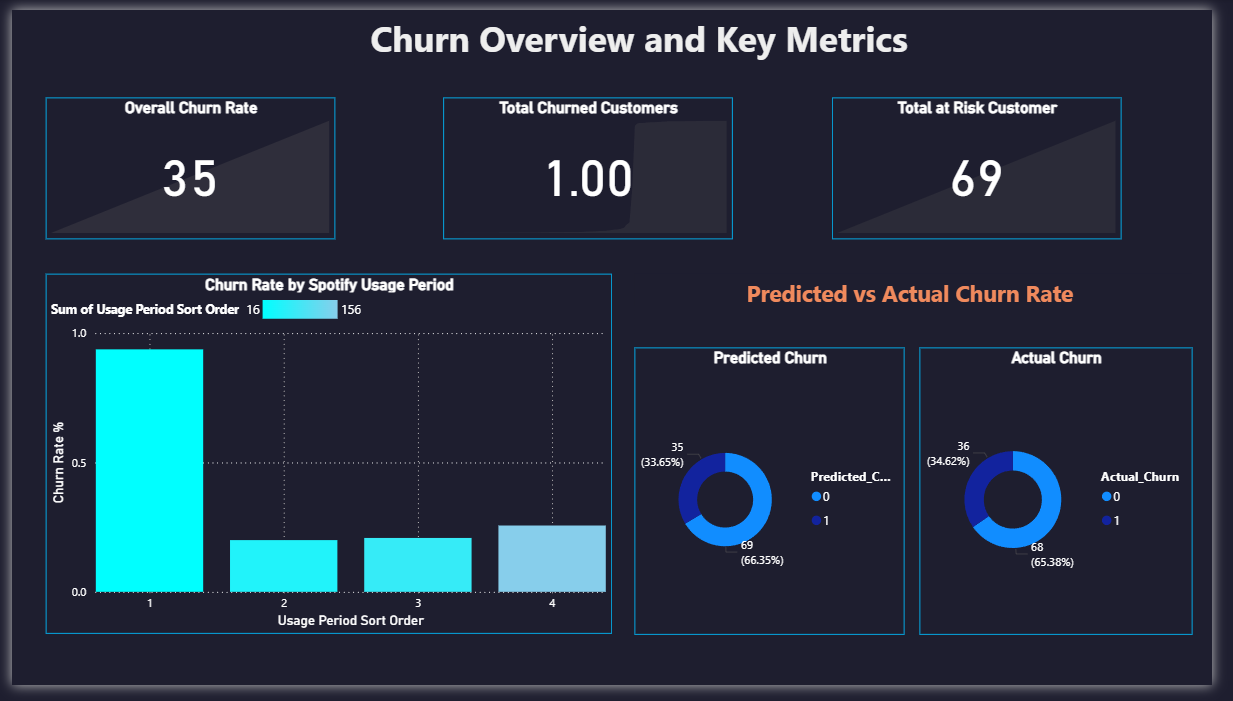

What the dashboard file says about the page in this screenshot:
{"tool":"powerbi","page":{"name":"Overview","canvas":[1280,720],"ordinal":0},"visuals":[{"type":"textbox","box":[365.6,0,617.2,65],"z":0},{"type":"kpi","title":"Overall Churn Rate","fields":{"Indicator":["Sum(spotify_churn_predictions.Predicted_Churn)"],"TrendLine":["spotify_churn_predictions.Predicted_Churn"]},"box":[35.7,93.3,308.7,150.9],"z":1000},{"type":"kpi","title":"Total Churned Customers ","fields":{"Indicator":["Sum(spotify_churn_predictions.Churn_Probability)"],"TrendLine":["spotify_churn_predictions.Churn_Probability"]},"box":[459.7,93.3,308.7,150.9],"z":2000},{"type":"kpi","title":"Total at Risk Customer","fields":{"Indicator":["CountNonNull(spotify_churn_predictions.Risk Segment)"],"TrendLine":["spotify_churn_predictions.Risk Segment"]},"box":[874.1,93.3,308.7,150.9],"z":3000},{"type":"columnChart","title":"Churn Rate by Spotify Usage Period","fields":{"Category":["spotify_churn_predictions.Usage Period Sort Order"],"Y":["spotify_churn_predictions.Churn Rate %"]},"box":[35.7,281.3,603.8,384.2],"z":4000},{"type":"donutChart","title":"Actual Churn","fields":{"Category":["spotify_churn_predictions.Actual_Churn"],"Y":["spotify_churn_predictions.Total Customers"]},"box":[967.4,359.5,290.9,306],"z":5000},{"type":"donutChart","title":"Predicted Churn","fields":{"Category":["spotify_churn_predictions.Predicted_Churn"],"Y":["spotify_churn_predictions.Total Customers"]},"box":[664.2,359.5,288.2,306],"z":6000},{"type":"textbox","box":[664.2,281.3,594.2,67.2],"z":7000}]}

Visuals, with their boxes in screenshot pixels (x1, y1, x2, y2), scaled from the page's 1280x720 canvas onto the 1233x701 screenshot:
textbox: x1=352 y1=0 x2=947 y2=63
"Overall Churn Rate" kpi: x1=34 y1=91 x2=332 y2=238
"Total Churned Customers " kpi: x1=443 y1=91 x2=740 y2=238
"Total at Risk Customer" kpi: x1=842 y1=91 x2=1139 y2=238
"Churn Rate by Spotify Usage Period" columnChart: x1=34 y1=274 x2=616 y2=648
"Actual Churn" donutChart: x1=932 y1=350 x2=1212 y2=648
"Predicted Churn" donutChart: x1=640 y1=350 x2=917 y2=648
textbox: x1=640 y1=274 x2=1212 y2=339
